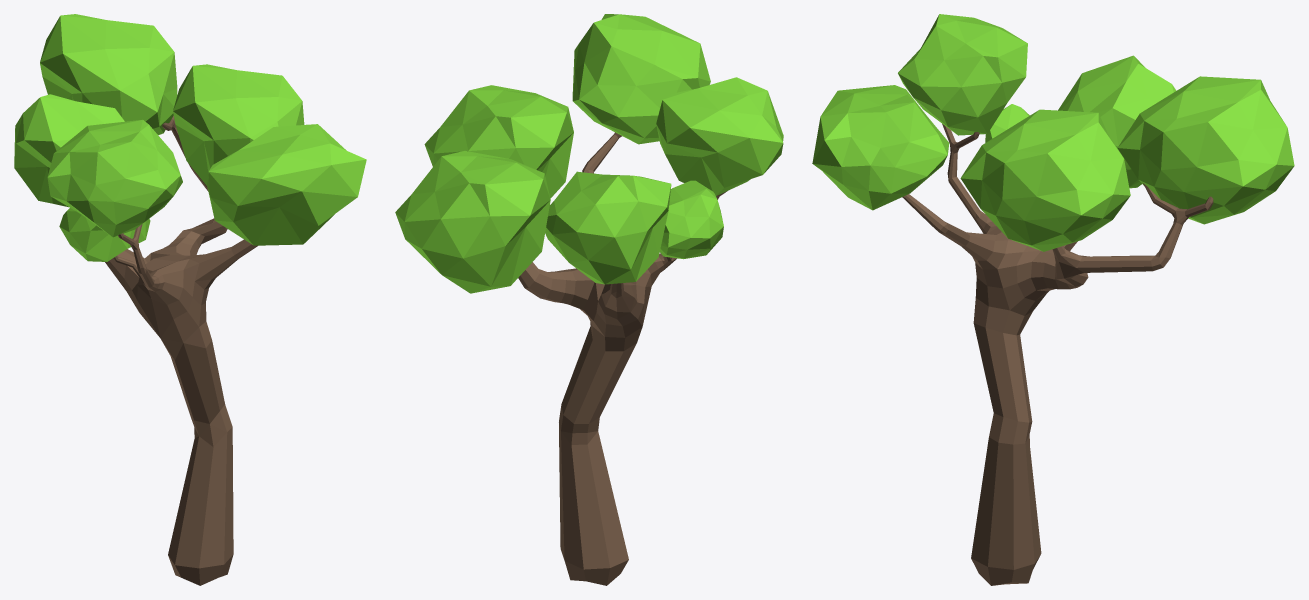
Rendered from Tree1.3.glb.
3 renders of one model, left to right at view 1: azimuth 30°, elevation 25°; view 2: azimuth 150°, elevation 25°; view 3: azimuth 270°, elevation 25°, orthographic. The views are drawn at different scales.
Parts seen in each view (by area): view 1: Tree1.3; view 2: Tree1.3; view 3: Tree1.3.
Boxes of the visible parts, x1,y1,x2,y2 form: Tree1.3: (14,14,366,585); Tree1.3: (395,14,783,585); Tree1.3: (812,14,1294,585).
Bounding box in the file's own units: 2.69 × 4.24 × 3.66.
